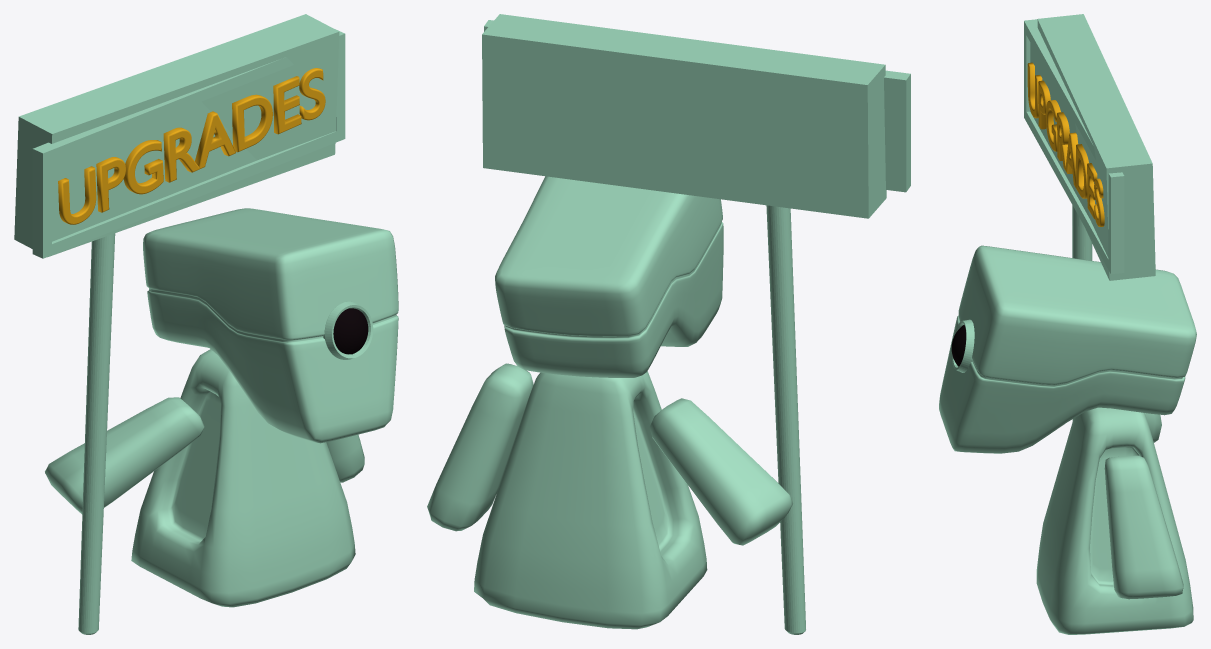
Rendered from Computer.glb.
The picture shows the model from 3 angles, left to right: view 1: azimuth 30°, elevation 25°; view 2: azimuth 150°, elevation 25°; view 3: azimuth 270°, elevation 25°; orthographic projection. The views are drawn at different scales.
Parts seen in each view (by area): view 1: Computer; view 2: Computer; view 3: Computer.
Part boxes in pixels (box(x1,y1,x2,y2)): Computer: box(14, 14, 398, 634); Computer: box(427, 14, 910, 634); Computer: box(939, 14, 1196, 634).
Bounding box in the file's own units: 2.26 × 3 × 1.44.
